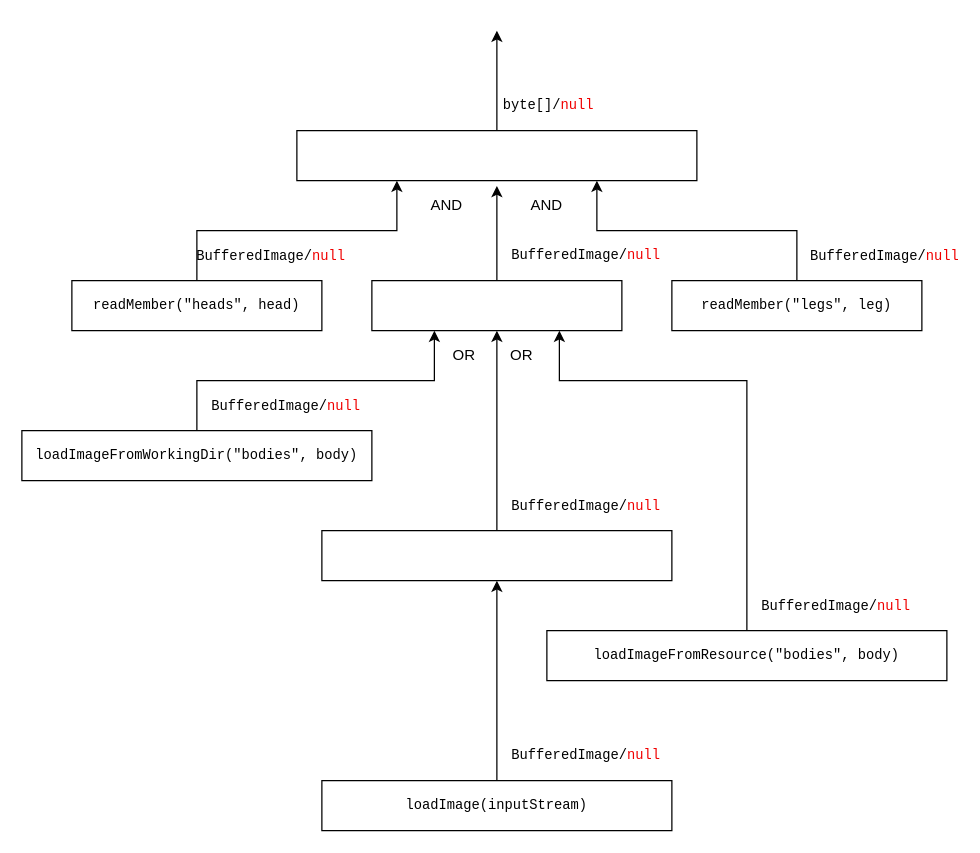
Some shapes in this 980 by 853 pixel diagram are drawn without their labels. The centre of each missing label's shape, as x and y in pixels:
bear(head, body, leg): (x=496, y=155)
loadImageFromSpecifiedDir("bodies", body): (x=496, y=555)
readMember("bodies", body): (x=496, y=305)
